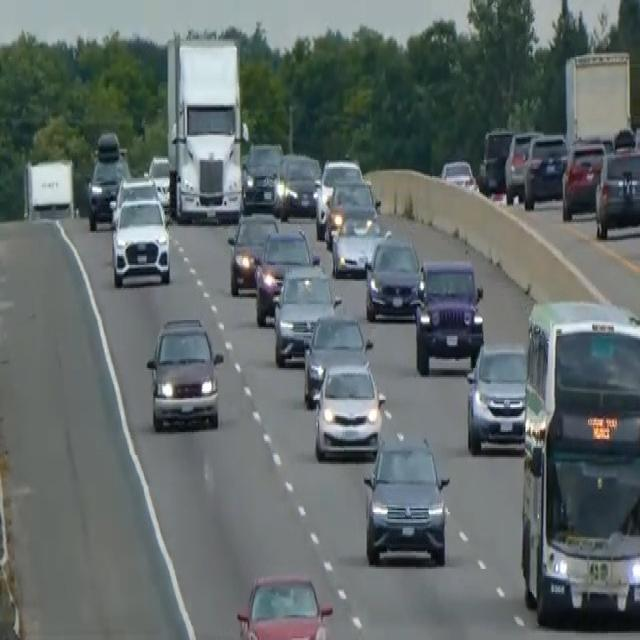bus: (518, 295, 639, 626)
car: (362, 432, 450, 565), (145, 315, 224, 432), (413, 256, 484, 375), (313, 356, 386, 460), (465, 339, 528, 454), (272, 262, 340, 366), (302, 311, 372, 407), (235, 571, 333, 638), (254, 226, 319, 325), (110, 196, 171, 286), (364, 233, 423, 322), (227, 210, 278, 295), (594, 146, 639, 238), (314, 156, 363, 238), (330, 208, 388, 277), (560, 137, 607, 220), (324, 178, 378, 245), (522, 130, 568, 208), (275, 149, 321, 219), (86, 155, 128, 229), (240, 138, 283, 210), (503, 128, 542, 203), (110, 174, 160, 224), (478, 124, 513, 194), (439, 156, 478, 194), (146, 153, 172, 208)
lorry: (165, 32, 247, 224)
